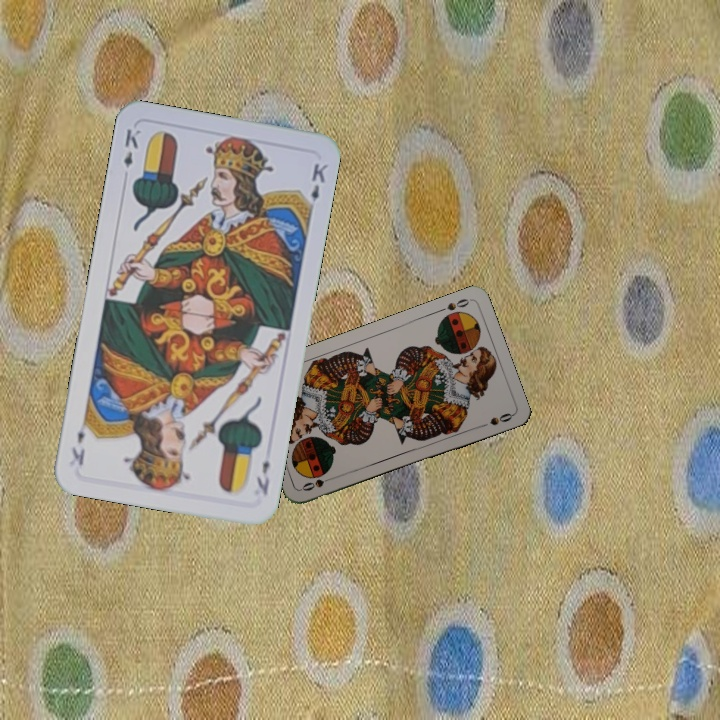EK: (119, 124, 143, 170), (252, 456, 272, 498)
SO: (298, 473, 337, 494), (434, 295, 473, 315)
